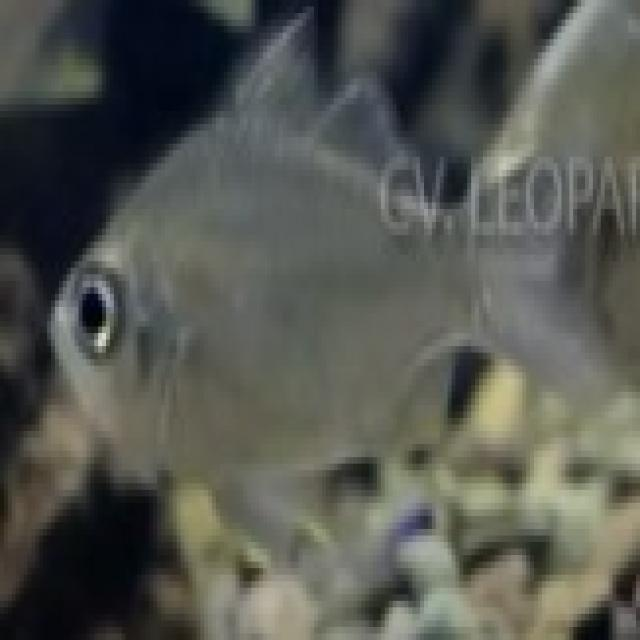Glass-Perchlet: (34, 19, 640, 584)
